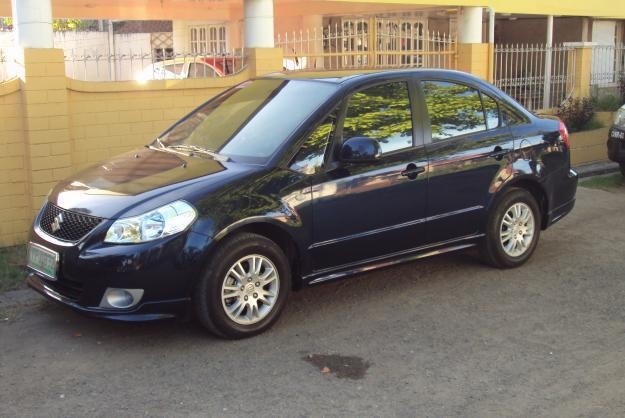Car: (20, 59, 588, 351)
